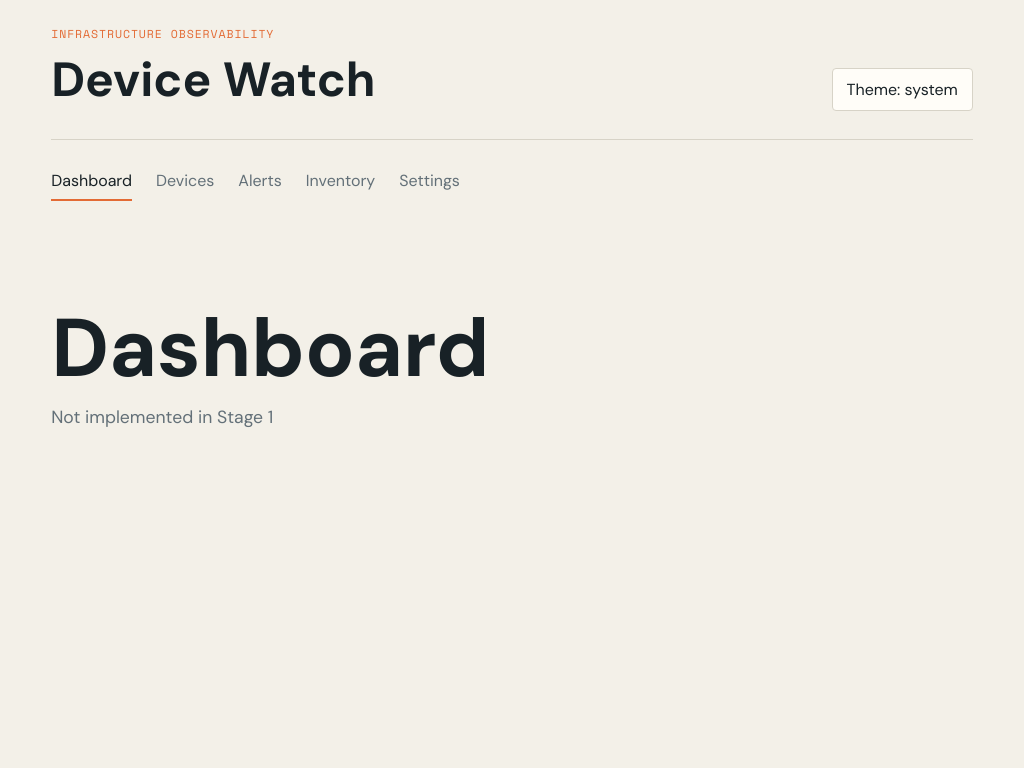
Test: Stage 1 application shell › cycles the persistent theme mode
This screenshot has width=1024, height=768.
Click the button with aria-label "switch theme" at (902, 89), box [832,68,973,110]
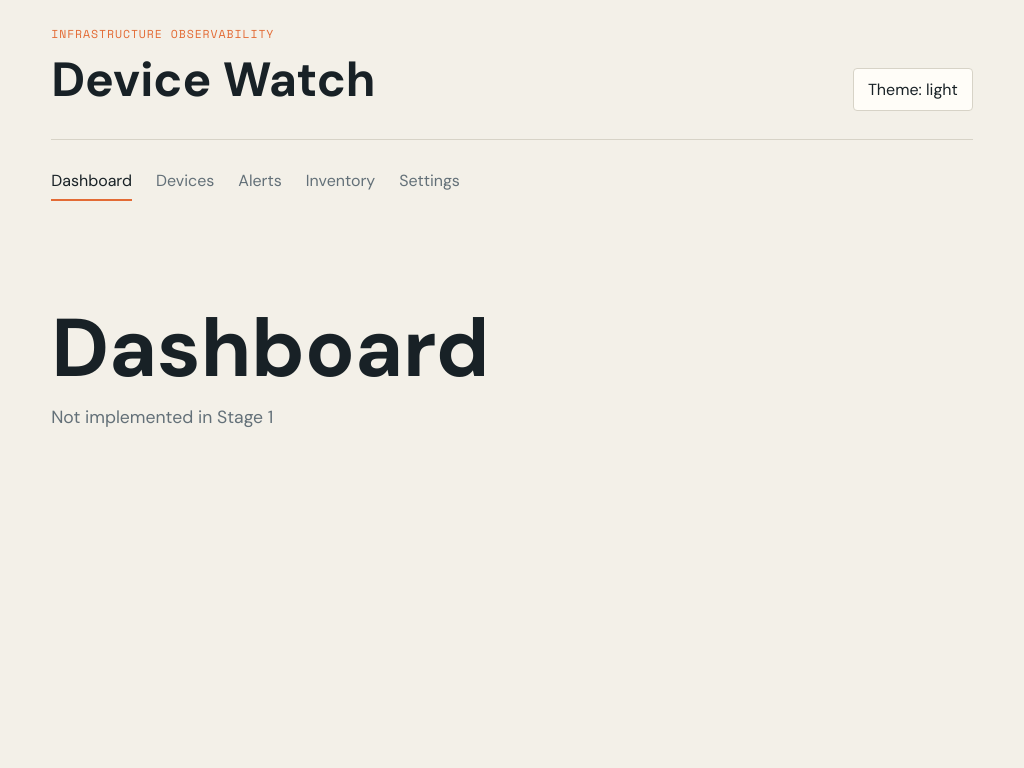
Check: the button with aria-label "switch theme" reads "Theme: light"
Click the button with aria-label "switch theme" at (913, 89), box [853,68,973,110]
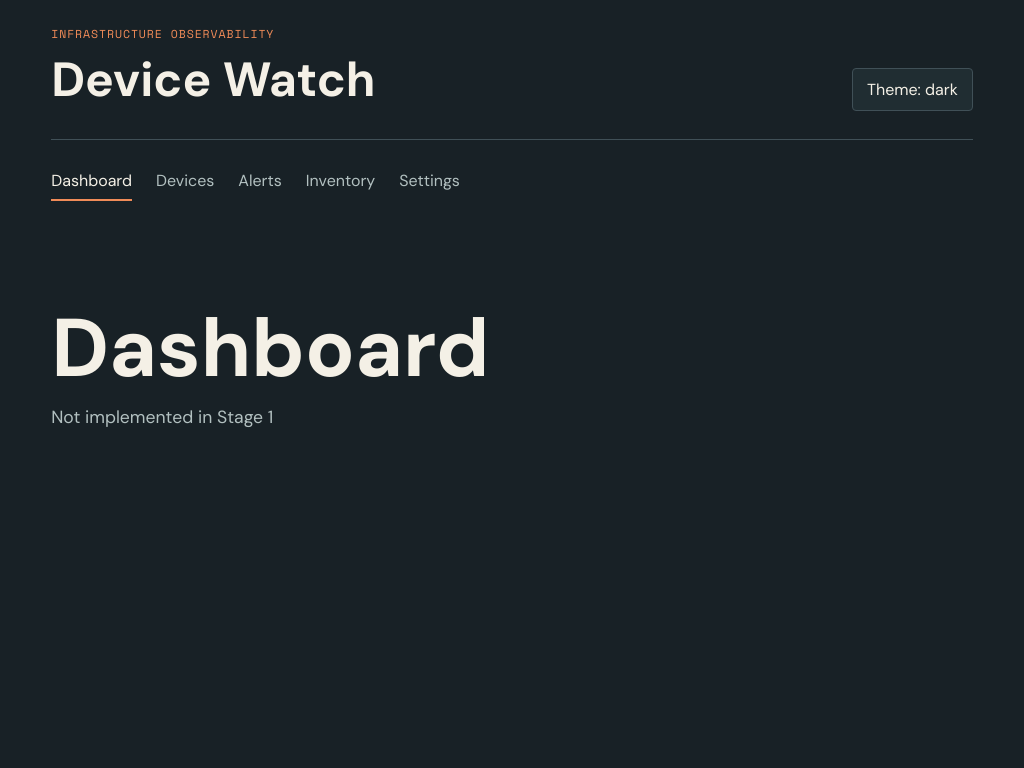
Check: the button with aria-label "switch theme" reads "Theme: dark"
Click the button with aria-label "switch theme" at (912, 89), box [852,68,973,110]
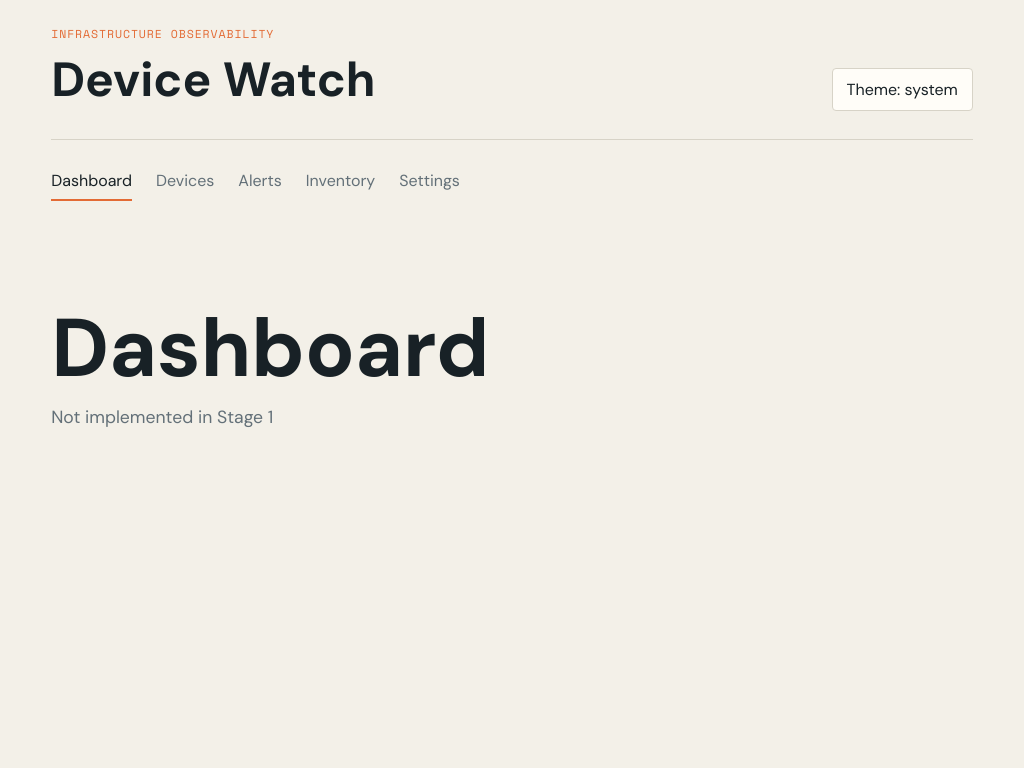
Check: the button with aria-label "switch theme" reads "Theme: system", box [832,68,973,110]
